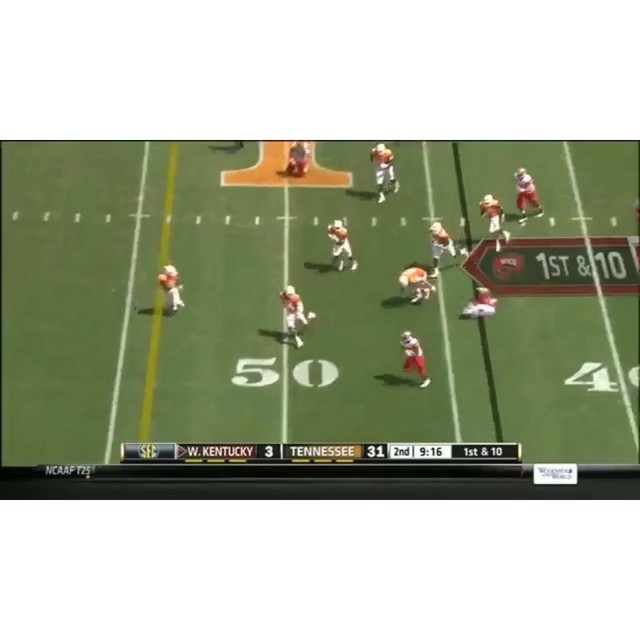american-football-player: (134, 264, 185, 318), (277, 285, 316, 347), (398, 330, 433, 389), (369, 143, 401, 204), (326, 218, 358, 273), (513, 167, 544, 223), (428, 219, 460, 273), (479, 193, 511, 247), (397, 262, 437, 305), (458, 285, 498, 321)
